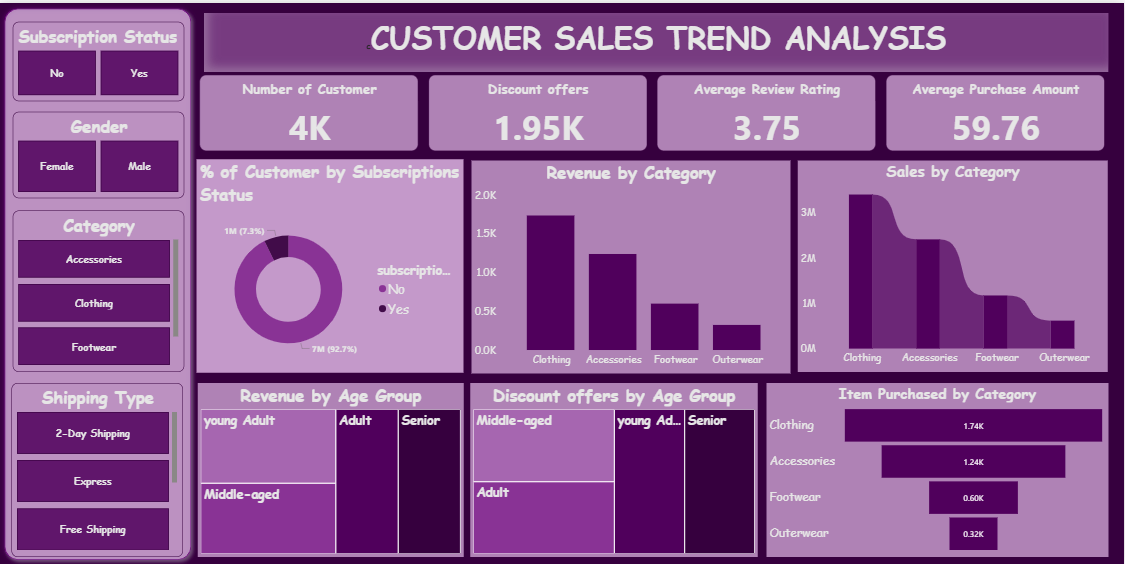

Layout of this report page (visuals, bound fields, positions):
{"tool":"powerbi","page":{"name":"Page 1","canvas":[1800,900],"ordinal":0},"visuals":[{"type":"cardVisual","fields":{"Data":["customer_behavior_db customer.Number of Customer","customer_behavior_db customer.Discount offers","customer_behavior_db customer.Average Review Rating","customer_behavior_db customer.Average Purchase Amount"]},"box":[328,110,1254,134],"z":0},{"type":"textbox","box":[328,16,1254,94],"z":1000},{"type":"shape","box":[14,0,302,886],"z":4000},{"type":"donutChart","title":"% of Customer by Subscriptions Status ","fields":{"Category":["customer_behavior_db customer.subscription_status"],"Y":["Sum(customer_behavior_db customer.customer_id)"]},"box":[327.7,248.9,408.5,342.6],"z":5000},{"type":"clusteredColumnChart","title":"Revenue by Category","fields":{"Y":["CountNonNull(customer_behavior_db customer.subscription_status)"],"Category":["customer_behavior_db customer.category"]},"box":[755.3,251.1,510.6,340.4],"z":5001},{"type":"ribbonChart","title":"Sales by Category","fields":{"Category":["customer_behavior_db customer.category"],"Y":["Sum(customer_behavior_db customer.customer_id)"]},"box":[1289.4,253.2,485.1,338.3],"z":5002},{"type":"treemap","title":"Revenue by Age Group","fields":{"Group":["customer_behavior_db customer.age_group"],"Values":["Sum(customer_behavior_db customer.purchase_amount)"]},"box":[329.8,606.4,425.5,278.7],"z":5003},{"type":"treemap","title":"Discount offers by Age Group","fields":{"Details":["customer_behavior_db customer.age_group"],"Values":["customer_behavior_db customer.Discount offers"]},"box":[772.3,614.9,442.6,263.8],"z":5004},{"type":"funnel","fields":{"Category":["customer_behavior_db customer.category"],"Y":["CountNonNull(customer_behavior_db customer.item_purchased)"]},"box":[1359.6,666,414.9,234],"z":5005}]}

Visuals, with their boxes in screenshot pixels (x1, y1, x2, y2), scaled from the page's 1800x900 canvas onto the 1125x564 screenshot:
cardVisual - customer_behavior_db customer.Number of Customer x customer_behavior_db customer.Discount offers: [x1=205, y1=69, x2=989, y2=153]
textbox: [x1=205, y1=10, x2=989, y2=69]
shape: [x1=9, y1=0, x2=198, y2=555]
"% of Customer by Subscriptions Status " donutChart: [x1=205, y1=156, x2=460, y2=371]
"Revenue by Category" clusteredColumnChart: [x1=472, y1=157, x2=791, y2=371]
"Sales by Category" ribbonChart: [x1=806, y1=159, x2=1109, y2=371]
"Revenue by Age Group" treemap: [x1=206, y1=380, x2=472, y2=555]
"Discount offers by Age Group" treemap: [x1=483, y1=385, x2=759, y2=551]
funnel - customer_behavior_db customer.category x CountNonNull(customer_behavior_db customer.item_purchased): [x1=850, y1=417, x2=1109, y2=563]
